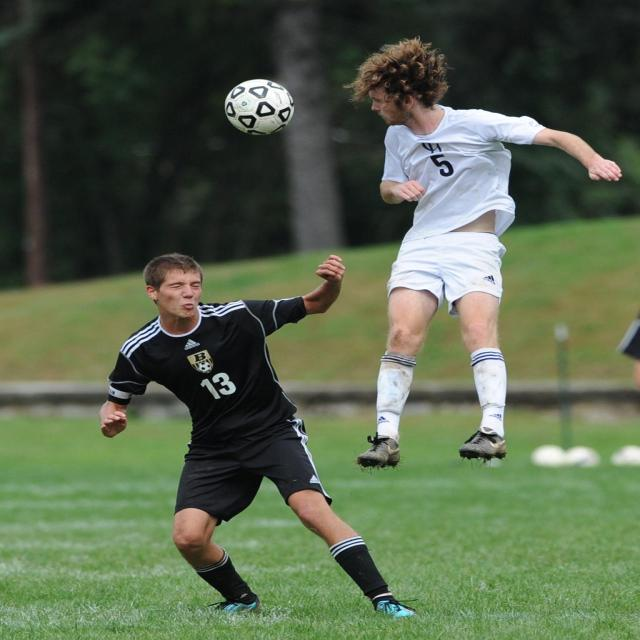Face: (152, 258, 216, 326), (364, 73, 404, 135)
